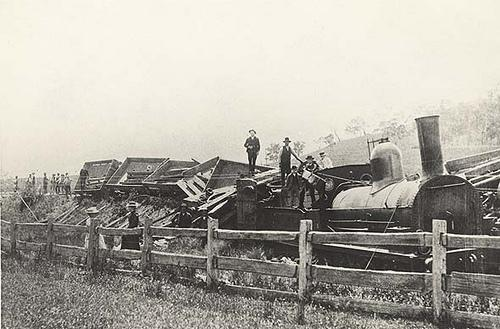Train: (232, 115, 493, 235)
